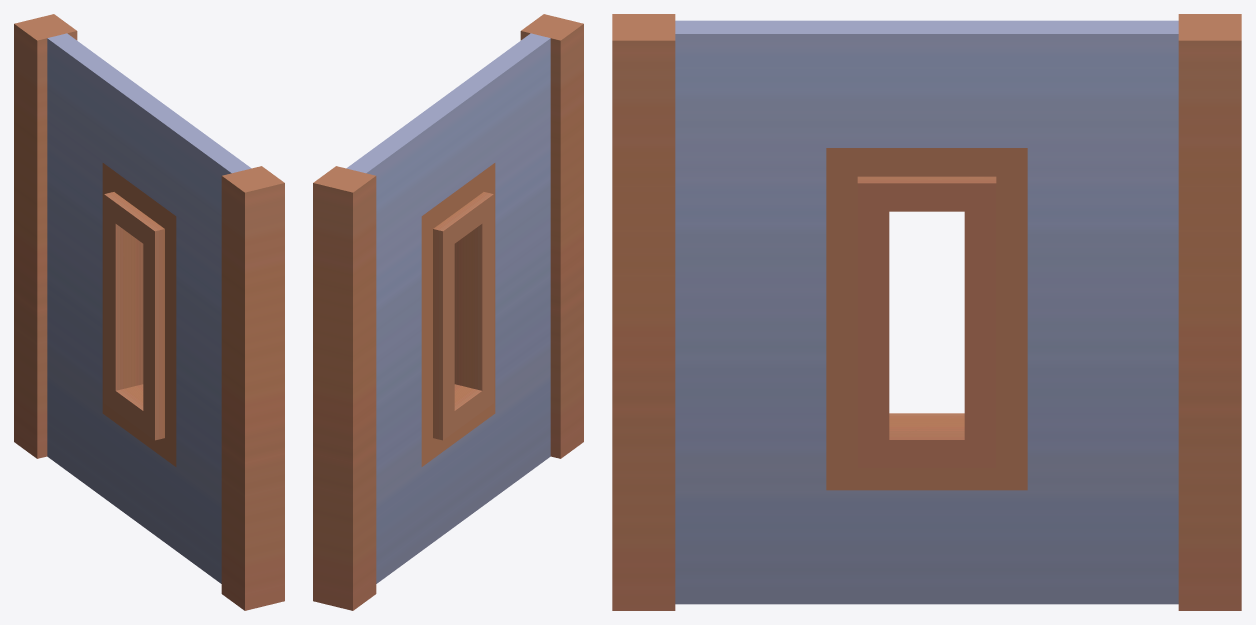
The model's file is wall-window-small.glb.
3 renders of one model, left to right at view 1: azimuth 30°, elevation 25°; view 2: azimuth 150°, elevation 25°; view 3: azimuth 270°, elevation 25°, orthographic. The views are drawn at different scales.
Parts seen in each view (by area): view 1: wall-window-small; view 2: wall-window-small; view 3: wall-window-small.
Part boxes in pixels (x1,y1,x2,y2): wall-window-small: (14,14,284,610); wall-window-small: (313,14,583,610); wall-window-small: (612,14,1241,610).
Bounding box in the file's own units: 0.1 × 1 × 1.
Materials: 1 (1 with a texture image).
